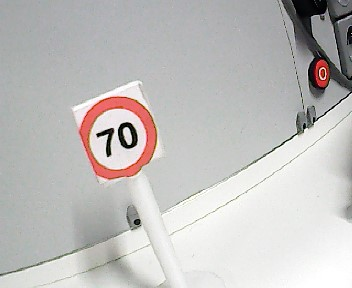70-bord: (79, 96, 158, 180)
